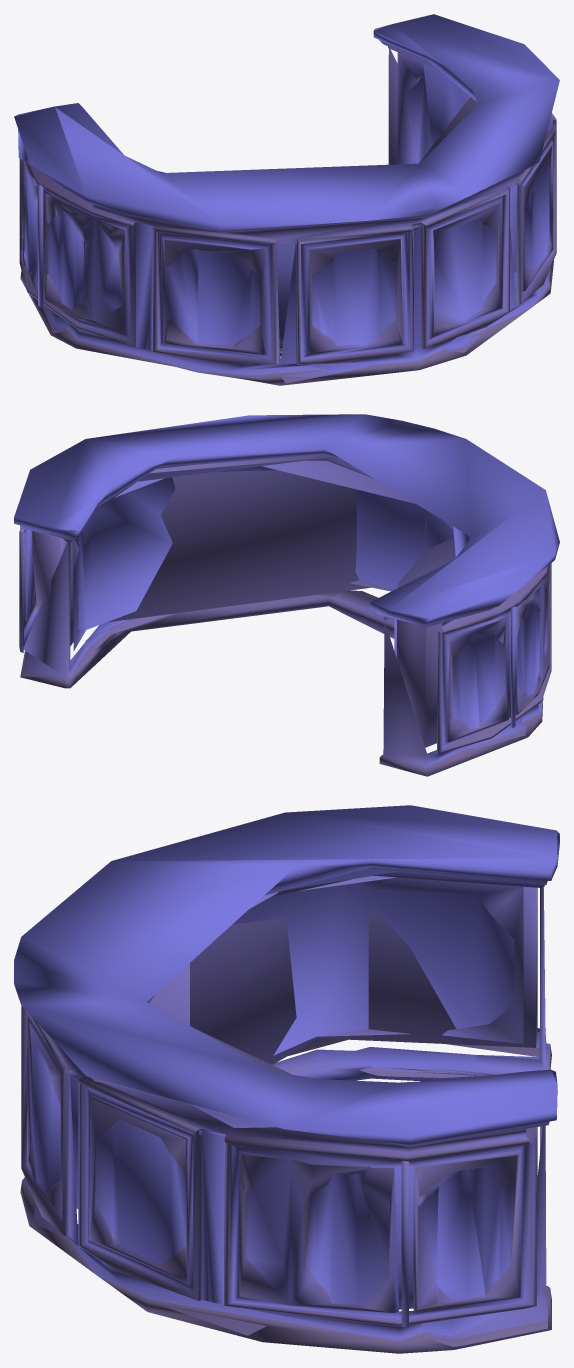
Rendered from model.progressive.glb.
The picture shows the model from 3 angles, top to bottom: view 1: azimuth 30°, elevation 25°; view 2: azimuth 150°, elevation 25°; view 3: azimuth 270°, elevation 25°; orthographic projection. The views are drawn at different scales.
Parts seen in each view (by area): view 1: material; view 2: material; view 3: material.
Part boxes in pixels (box(x1,y1,x2,y2)): material: box(14, 14, 559, 385); material: box(14, 414, 559, 776); material: box(14, 805, 559, 1353).
Bounding box in the file's own units: 1.9 × 0.5968 × 1.33.
1 material, 1 textured.
